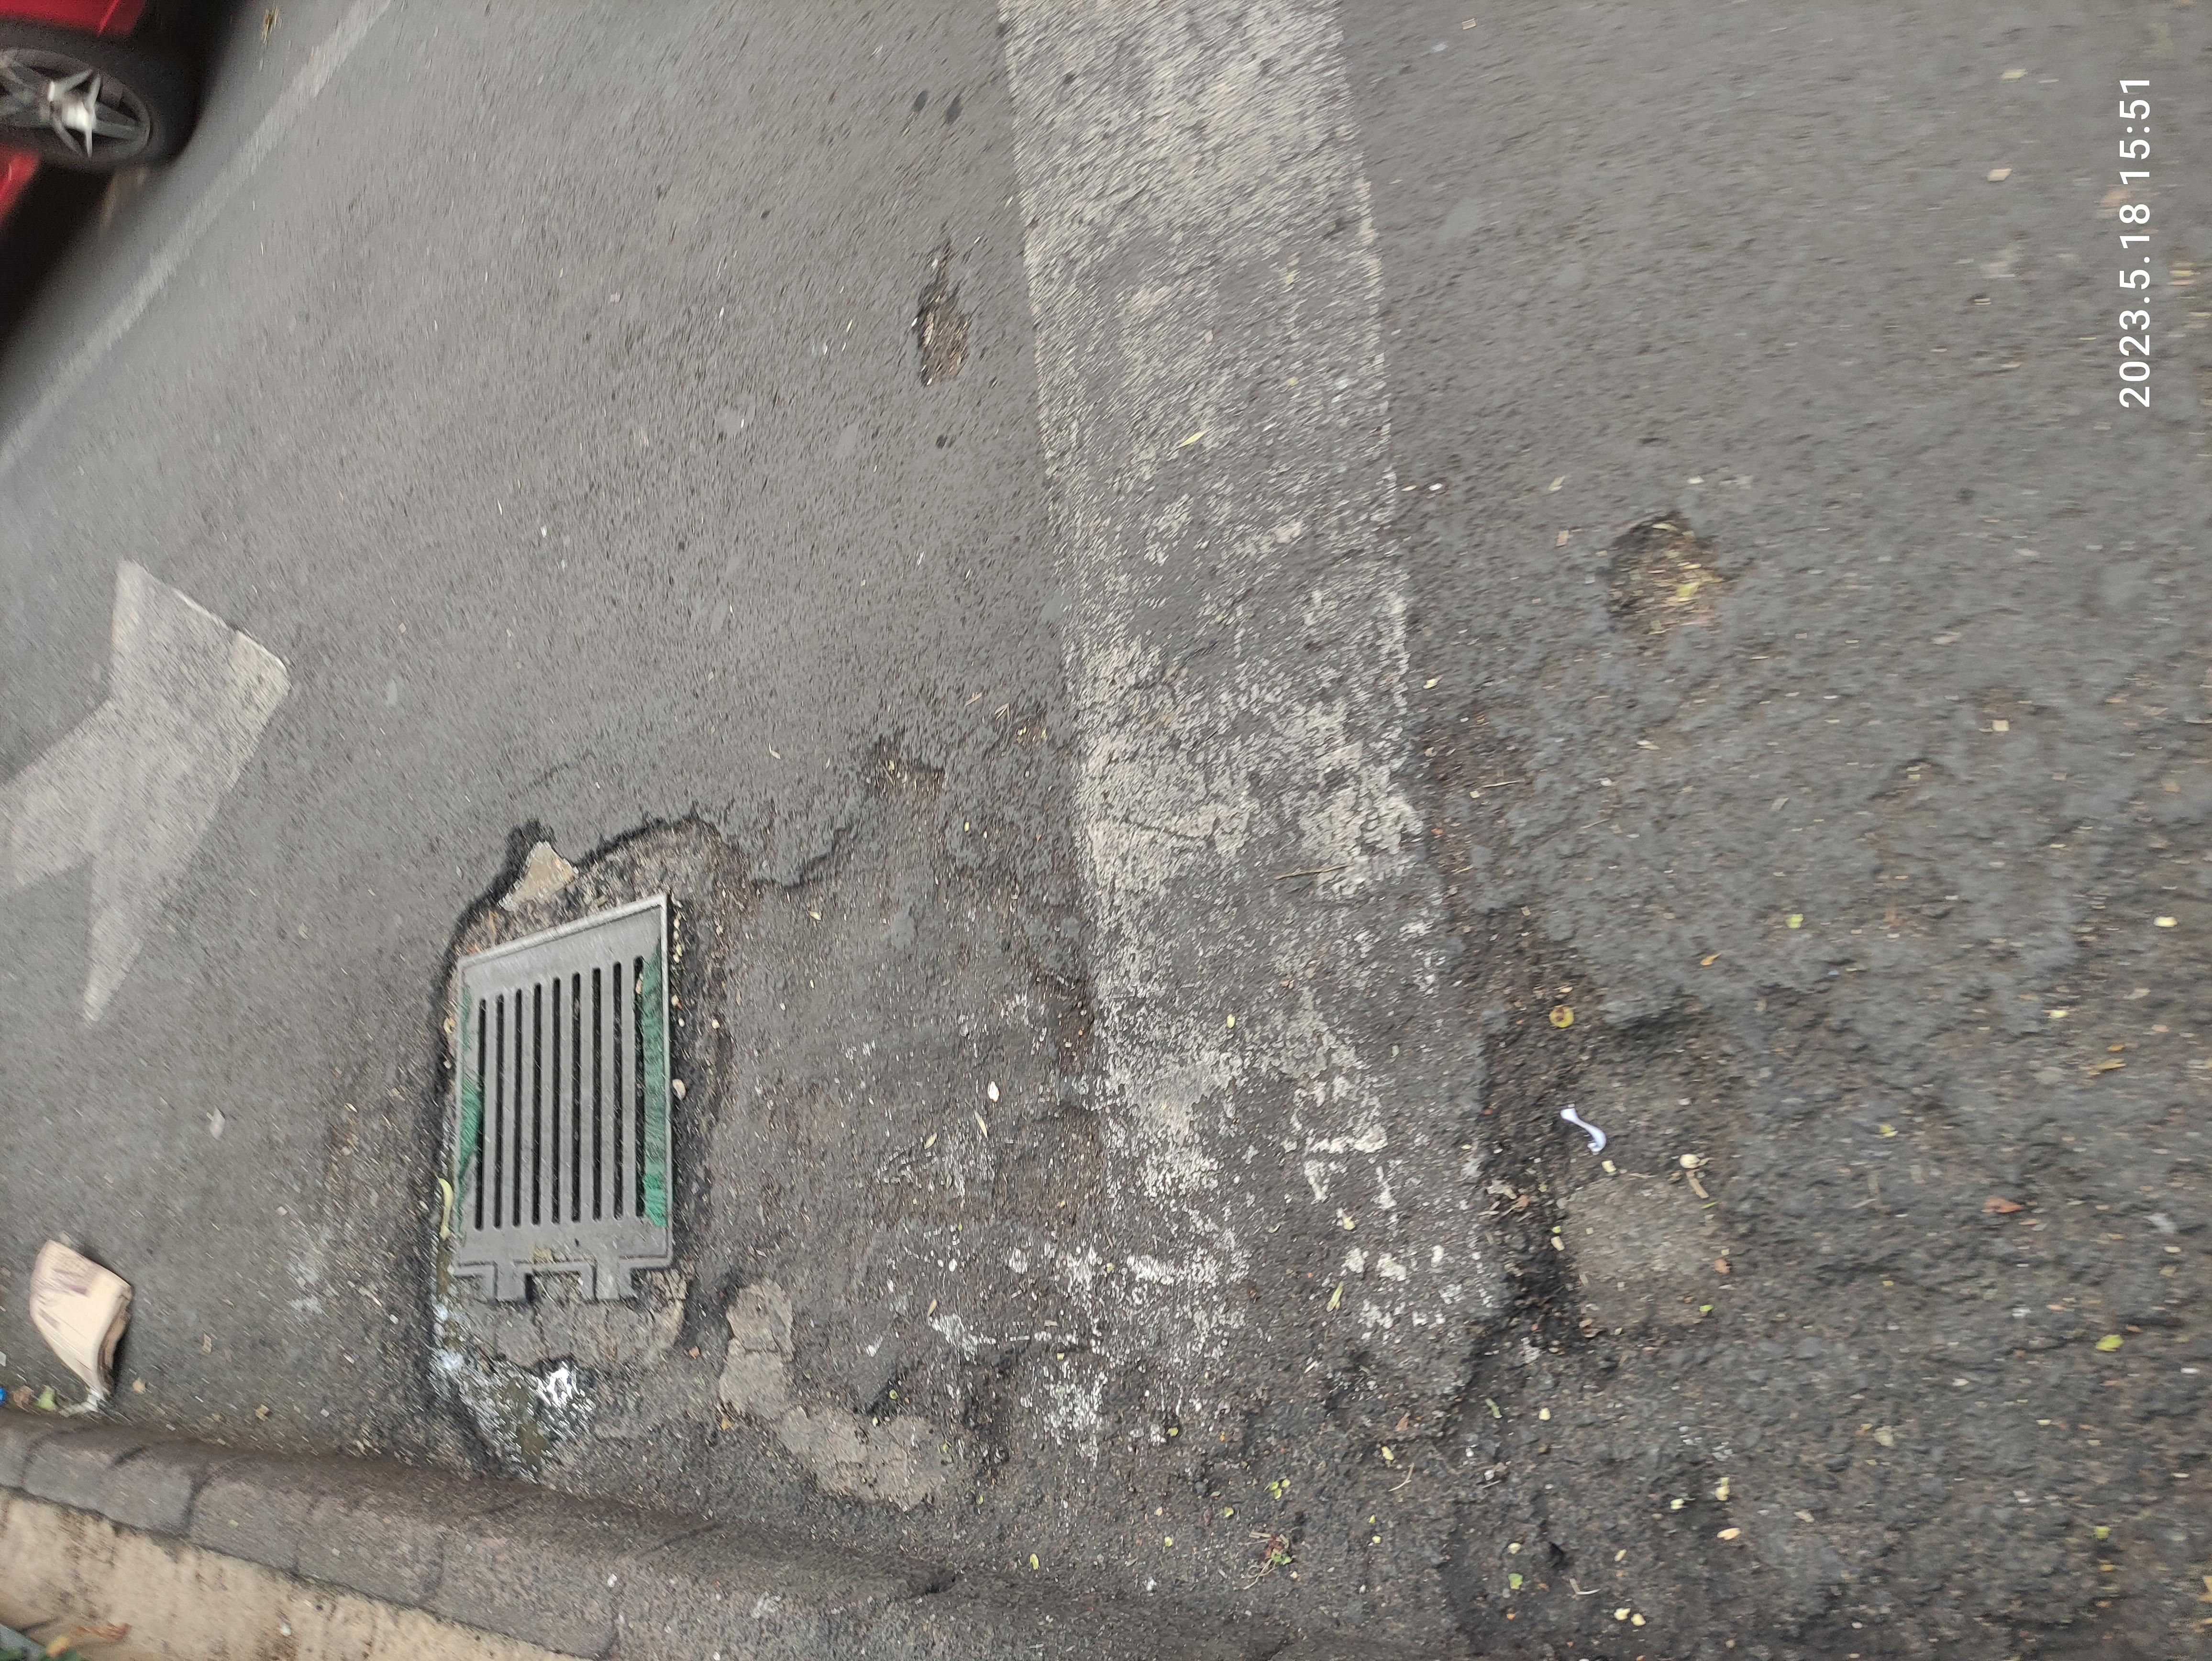alligator-crack: (242, 293, 1137, 627), (1494, 677, 1497, 677)
pothole: (0, 1081, 940, 1661), (1303, 1182, 1574, 1306)
